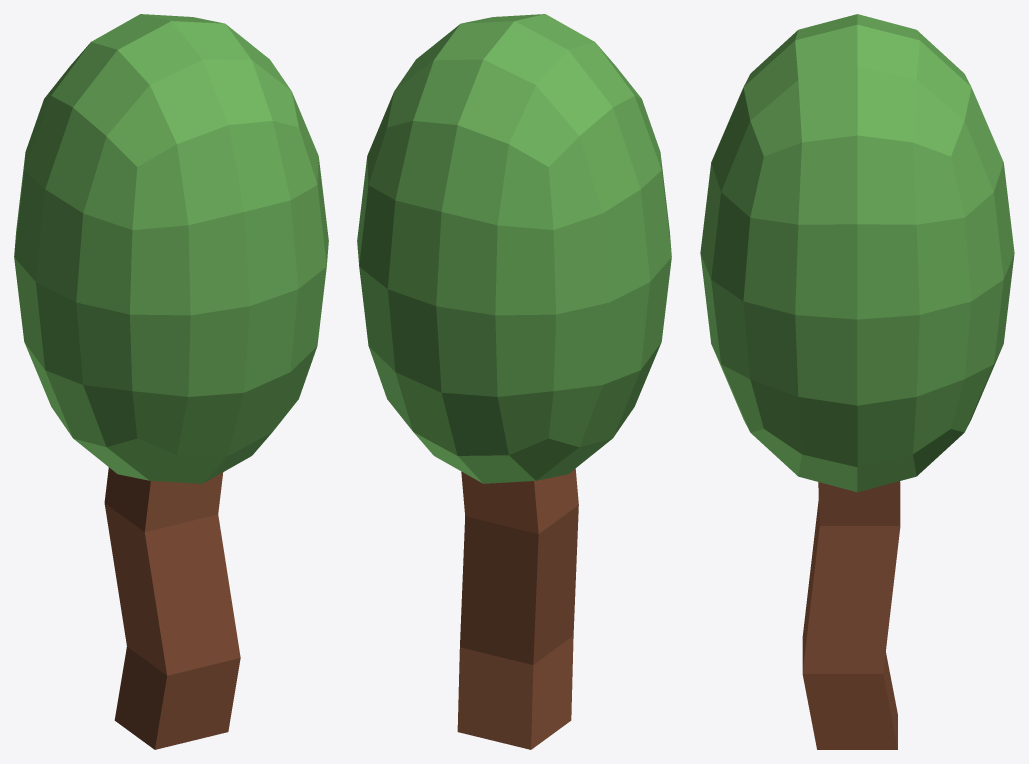
File: trees.glb
The picture shows the model from 3 angles, left to right: view 1: azimuth 30°, elevation 25°; view 2: azimuth 150°, elevation 25°; view 3: azimuth 270°, elevation 25°; orthographic projection.
Visible parts, largest first — view 1: Cube; view 2: Cube; view 3: Cube.
Part boxes in pixels (left/top/right/bottom): Cube: left=14, top=14, right=328, bottom=749; Cube: left=357, top=14, right=671, bottom=749; Cube: left=700, top=14, right=1014, bottom=749.
Bounding box in the file's own units: 5.15 × 12.79 × 5.15.
